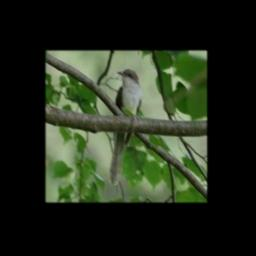Cuckoo: (110, 69, 142, 186)
